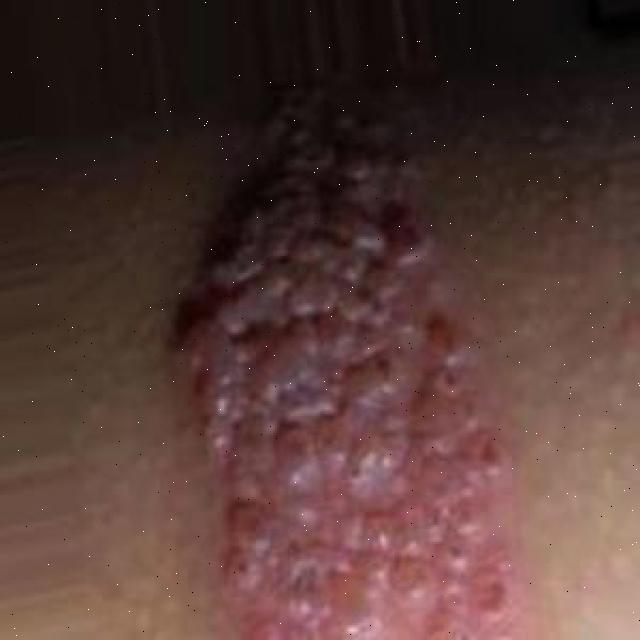Shingles: (186, 109, 519, 640)
